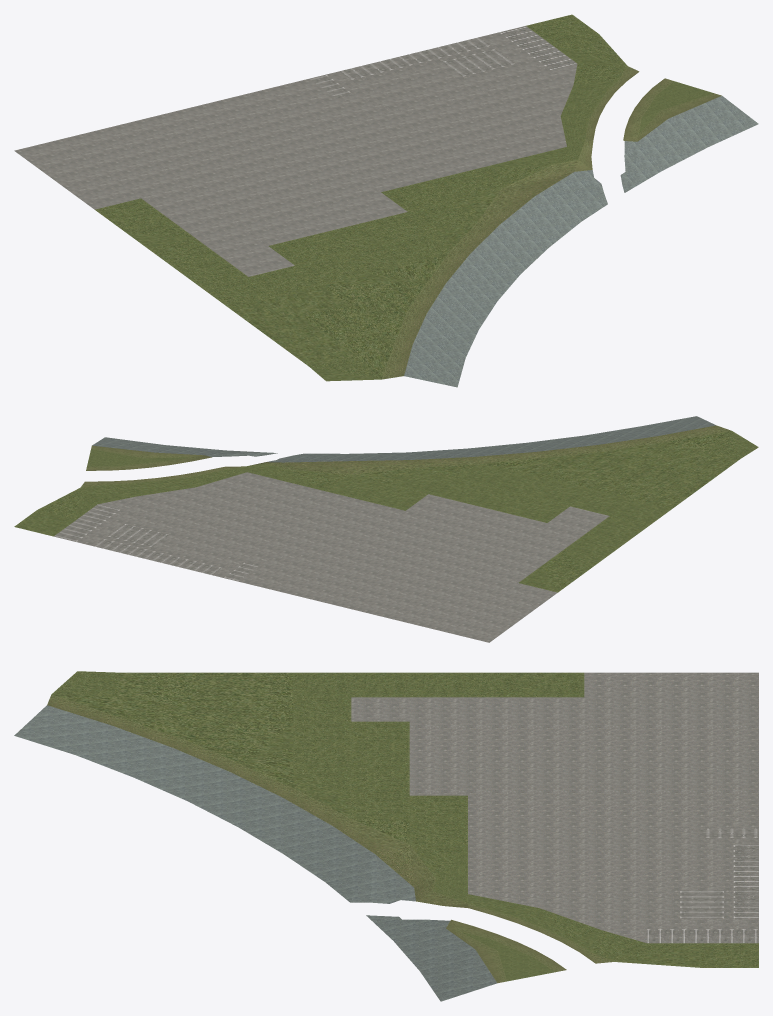
File: vgnorthland04.obj
3 views of the same model, one above another, from view 1: azimuth 30°, elevation 25°; view 2: azimuth 150°, elevation 25°; view 3: azimuth 270°, elevation 25° (orthographic). The views are drawn at different scales.
Parts seen in each view (by area): view 1: vgnorthland04; view 2: vgnorthland04; view 3: vgnorthland04.
Part boxes in pixels (x1,y1,x2,y2): vgnorthland04: (14,14,758,387); vgnorthland04: (14,416,758,642); vgnorthland04: (14,671,758,1001).
Bounding box in the file's own units: 258 × 6.02 × 256.
Materials: 9 (9 with a texture image).
